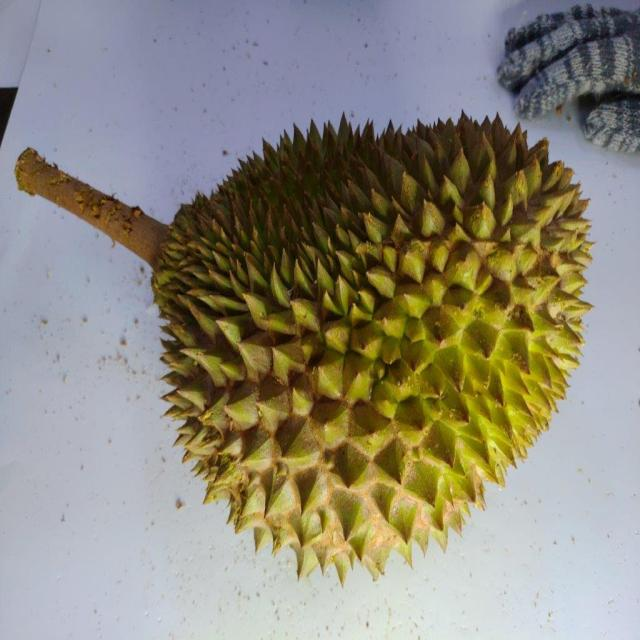mature: (147, 112, 595, 578)
